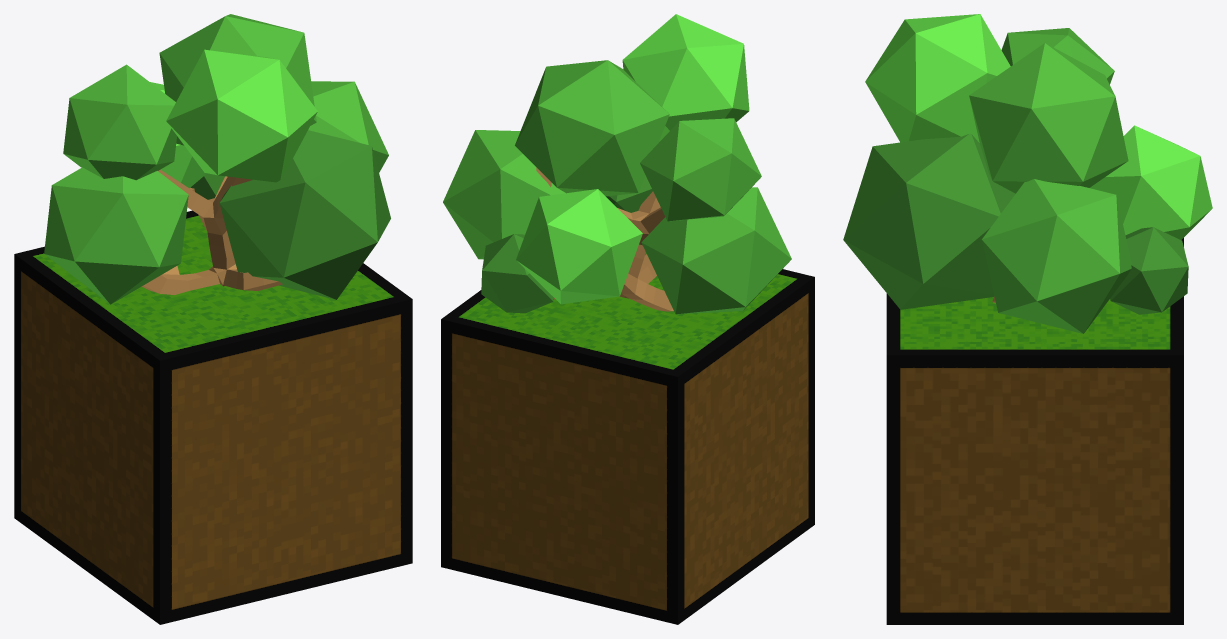
File: BushBig4.glb
The picture shows the model from 3 angles, left to right: view 1: azimuth 30°, elevation 25°; view 2: azimuth 150°, elevation 25°; view 3: azimuth 270°, elevation 25°; orthographic projection. The views are drawn at different scales.
Visible parts, largest first — view 1: Grass_v2Baked, Icosphere.001, Icosphere.008, Icosphere, Icosphere.003, Icosphere.006, Tree small 1, Icosphere.004, Icosphere.002, Icosphere.007; view 2: Grass_v2Baked, Icosphere.006, Icosphere.008, Icosphere.002, Icosphere, Icosphere.003, Icosphere.004, Icosphere.007, Tree small 1, Icosphere.001; view 3: Grass_v2Baked, Icosphere.001, Icosphere.004, Icosphere.006, Icosphere, Icosphere.002, Icosphere.007, Icosphere.003.
Part boxes in pixels (box(x1,y1,x2,y2)): Grass_v2Baked: box(14, 210, 412, 624); Icosphere.001: box(219, 130, 390, 299); Icosphere.008: box(44, 167, 188, 304); Icosphere: box(166, 49, 317, 182); Icosphere.003: box(63, 64, 176, 180); Icosphere.006: box(159, 14, 316, 145); Tree small 1: box(142, 169, 282, 294); Icosphere.004: box(308, 81, 388, 172); Icosphere.002: box(150, 82, 206, 188); Icosphere.007: box(190, 173, 224, 199); Grass_v2Baked: box(441, 252, 814, 624); Icosphere.006: box(515, 60, 669, 196); Icosphere.008: box(641, 187, 791, 314); Icosphere.002: box(516, 189, 642, 304); Icosphere: box(622, 14, 749, 140); Icosphere.003: box(640, 118, 761, 221); Icosphere.004: box(443, 130, 565, 259); Icosphere.007: box(481, 234, 553, 313); Tree small 1: box(536, 167, 673, 311); Icosphere.001: box(606, 141, 659, 212); Grass_v2Baked: box(886, 238, 1183, 624); Icosphere.001: box(843, 133, 1015, 309); Icosphere.004: box(981, 179, 1131, 333); Icosphere.006: box(969, 43, 1128, 193); Icosphere: box(865, 14, 1010, 142); Icosphere.002: box(1090, 125, 1212, 240); Icosphere.007: box(1110, 227, 1188, 314); Icosphere.003: box(1001, 28, 1114, 84).
Size of the model in its own units: 1.29 by 1.94 by 1.22.
Materials: 6 (1 with a texture image).
